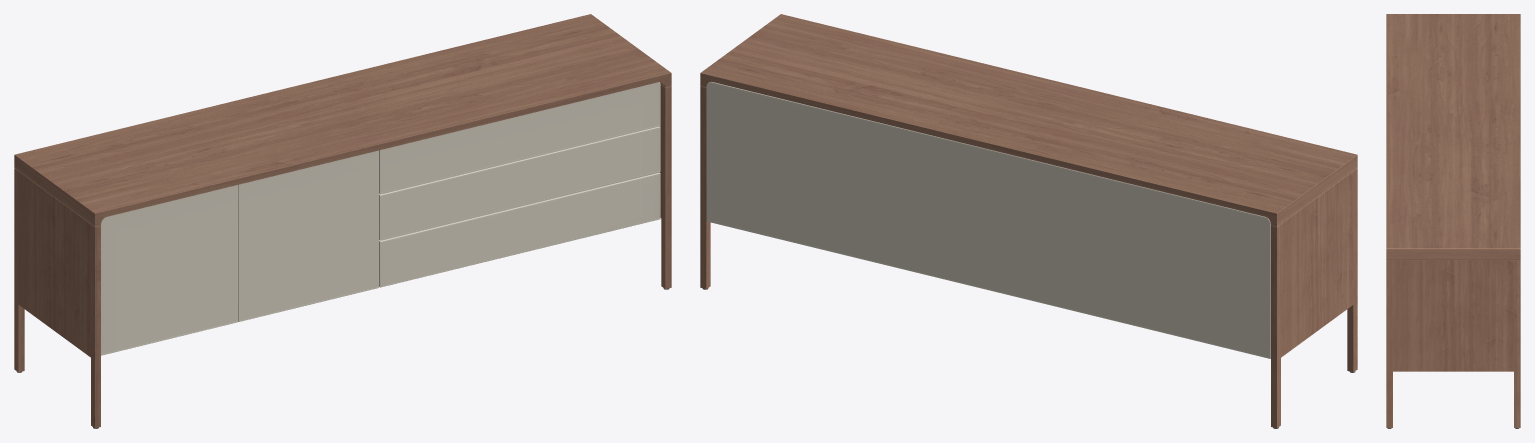
Rendered from raw_model.obj.
The picture shows the model from 3 angles, left to right: view 1: azimuth 30°, elevation 25°; view 2: azimuth 150°, elevation 25°; view 3: azimuth 270°, elevation 25°; orthographic projection. The views are drawn at different scales.
Parts seen in each view (by area): view 1: solid_002, solid_003; view 2: solid_002, solid_003; view 3: solid_003.
Part boxes in pixels (box(x1,y1,x2,y2)): solid_002: box(101, 82, 660, 355); solid_003: box(14, 14, 671, 428); solid_002: box(706, 82, 1270, 358); solid_003: box(700, 14, 1357, 428); solid_003: box(1386, 14, 1520, 427).
Size of the model in its own units: 2.06 by 0.737 by 0.4975.
Materials: 1 (1 with a texture image).
